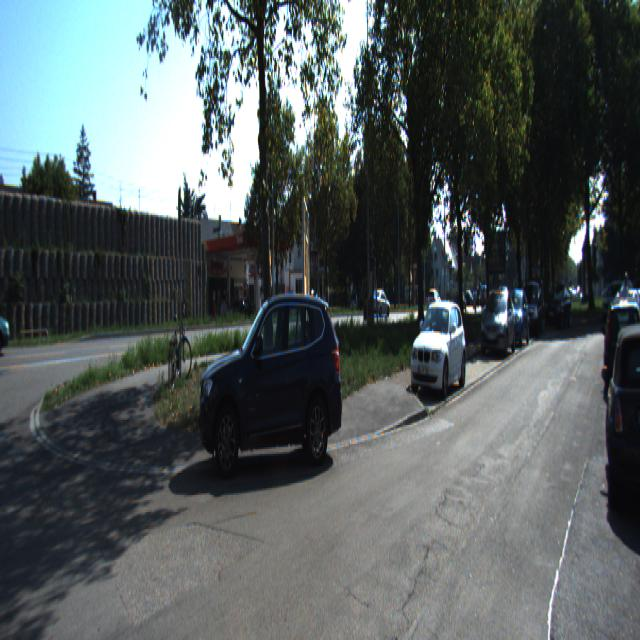Car: (192, 274, 346, 480), (606, 301, 640, 515), (407, 305, 469, 407), (604, 297, 639, 401), (479, 284, 517, 356), (0, 282, 12, 353), (639, 299, 639, 356)
